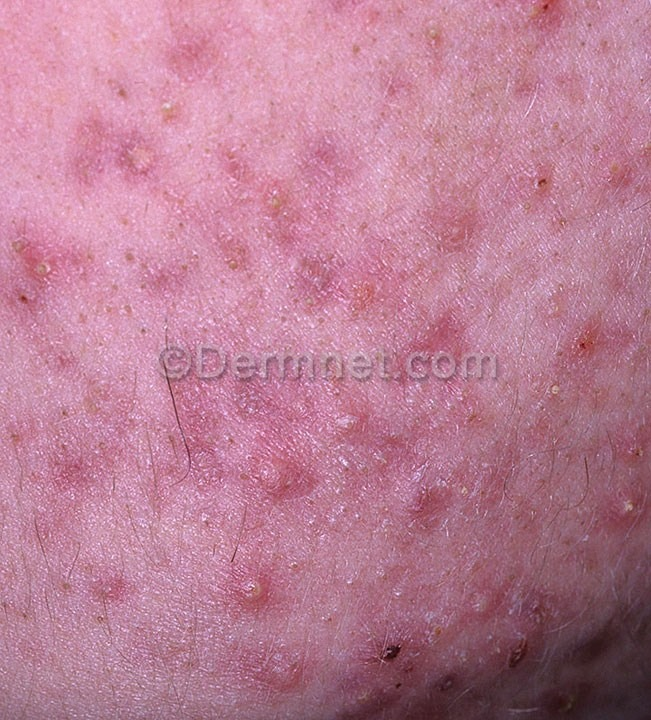Acne: (120, 140, 172, 188), (22, 246, 60, 292), (614, 486, 651, 528), (234, 564, 268, 606), (148, 92, 186, 128), (264, 176, 298, 216), (526, 168, 556, 204)
